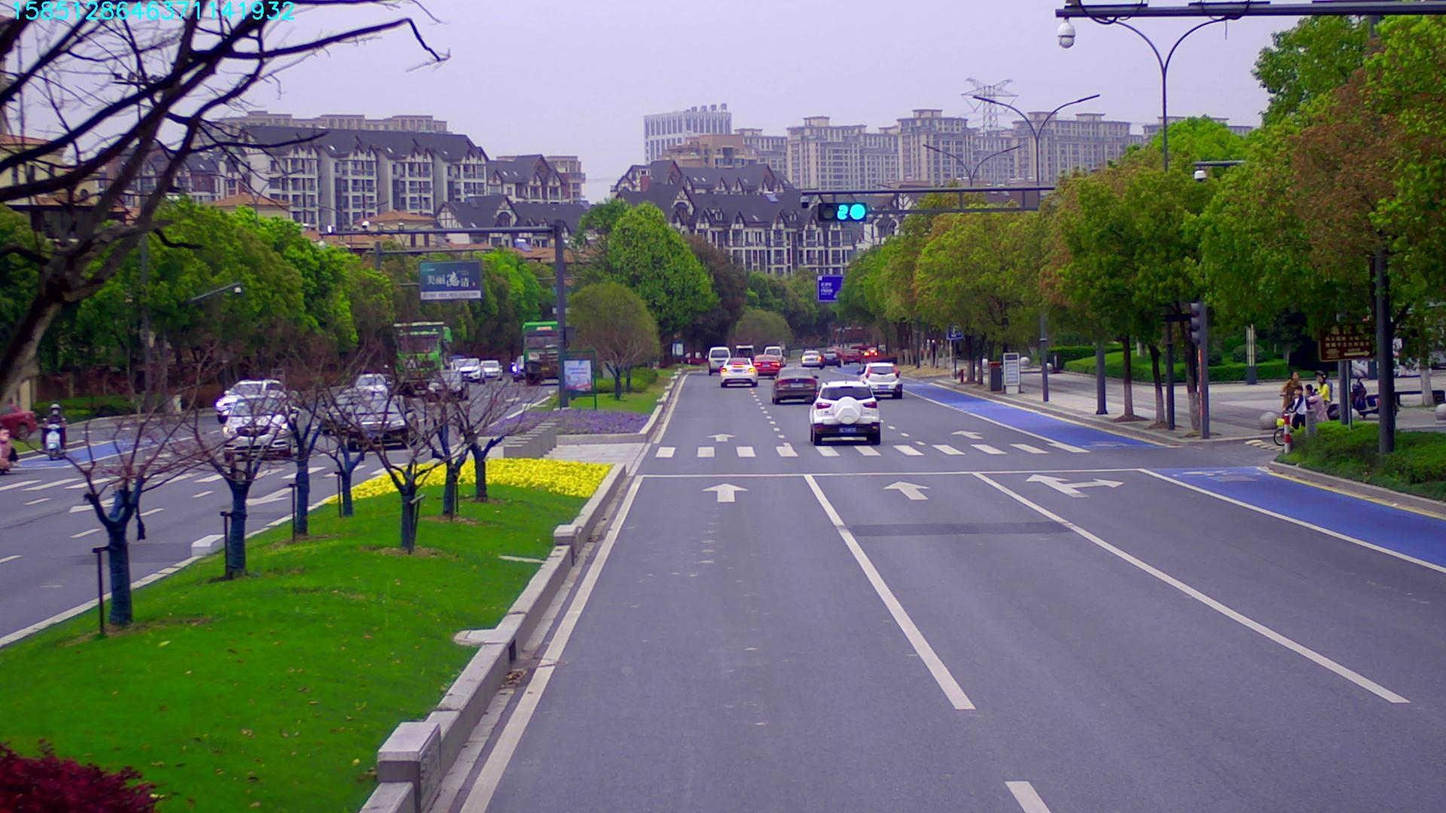green: (815, 200, 866, 221)
